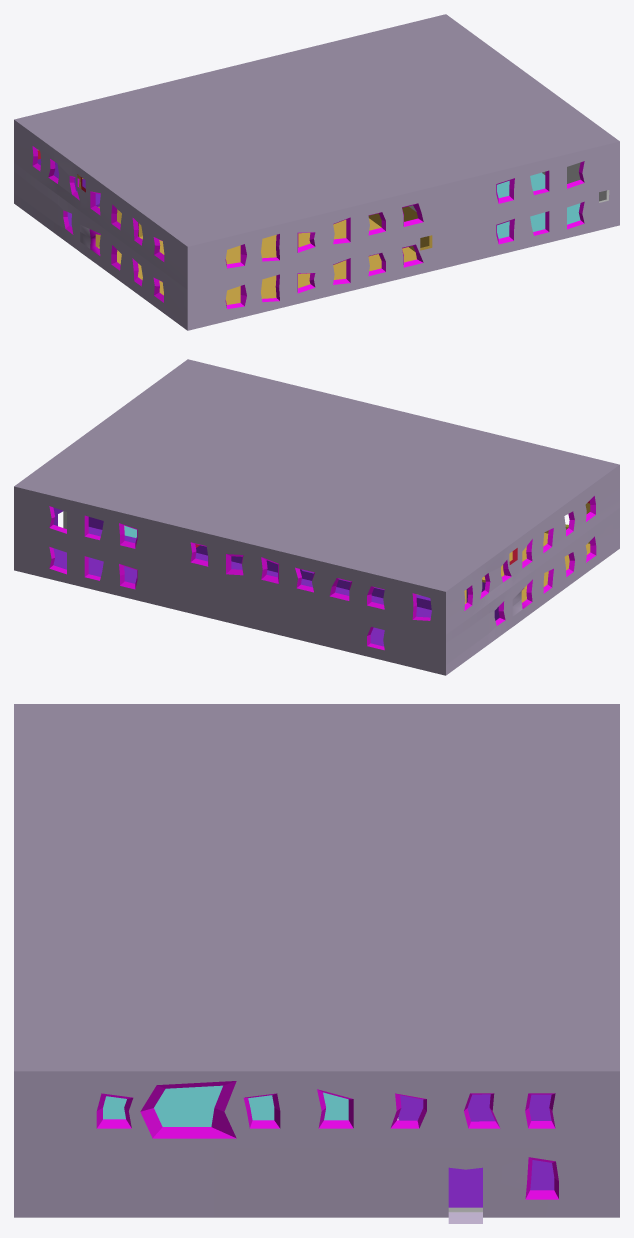
The model's file is SM_SchoolBuilding_4.4.fbx.
3 views of the same model, one above another, from view 1: azimuth 30°, elevation 25°; view 2: azimuth 150°, elevation 25°; view 3: azimuth 270°, elevation 25° (orthographic). The views are drawn at different scales.
Parts seen in each view (by area): view 1: SM_SchoolBuilding_4_4; view 2: SM_SchoolBuilding_4_4; view 3: SM_SchoolBuilding_4_4.
Part boxes in pixels (bbox=[...]): SM_SchoolBuilding_4_4: bbox=[14, 14, 619, 330]; SM_SchoolBuilding_4_4: bbox=[14, 359, 619, 675]; SM_SchoolBuilding_4_4: bbox=[14, 704, 619, 1223].
Size of the model in its own units: 5663 by 1033 by 3880.
